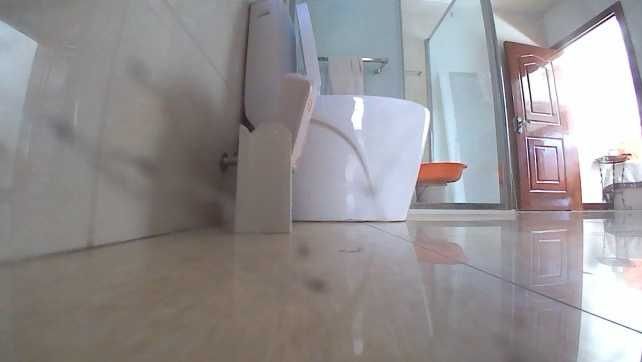toilet: (237, 0, 433, 226)
